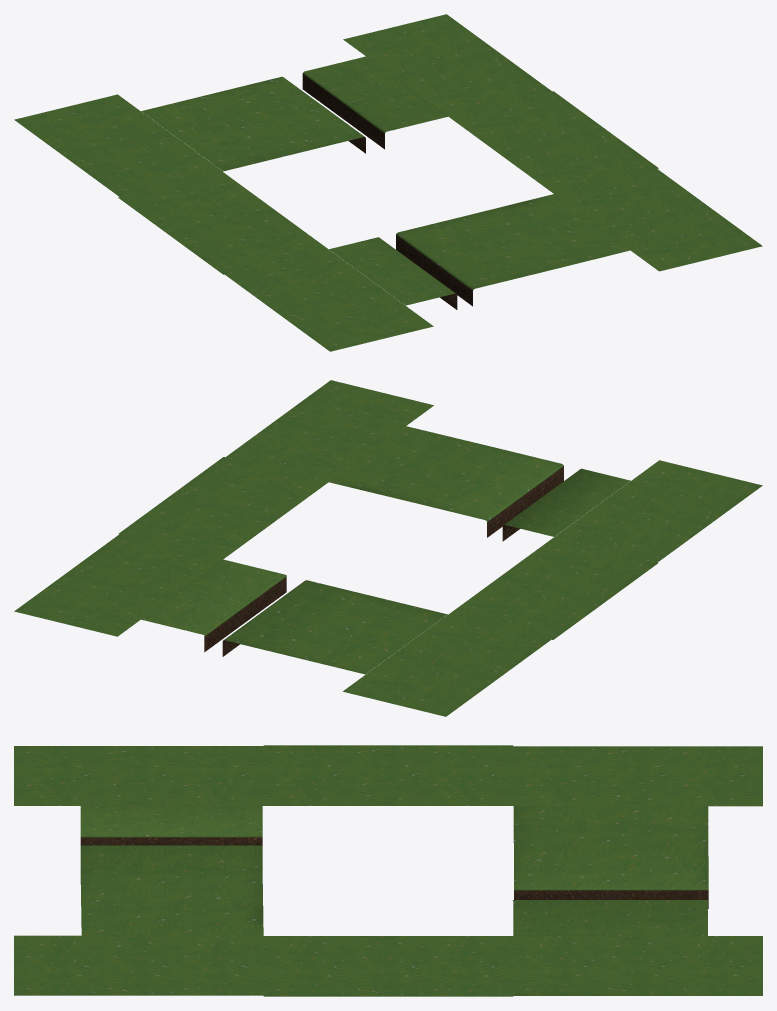
The model's file is exterior_jardin.fbx.
3 renders of one model, top to bottom at view 1: azimuth 30°, elevation 25°; view 2: azimuth 150°, elevation 25°; view 3: azimuth 270°, elevation 25°, orthographic. The views are drawn at different scales.
Visible parts, largest first — view 1: terrena_low.001; view 2: terrena_low.001; view 3: terrena_low.001.
Boxes of the visible parts, <box> form: terrena_low.001: <box>14,14,762,351</box>; terrena_low.001: <box>14,380,762,716</box>; terrena_low.001: <box>14,745,762,996</box>.
Size of the model in its own units: 5247 by 200 by 6607.
